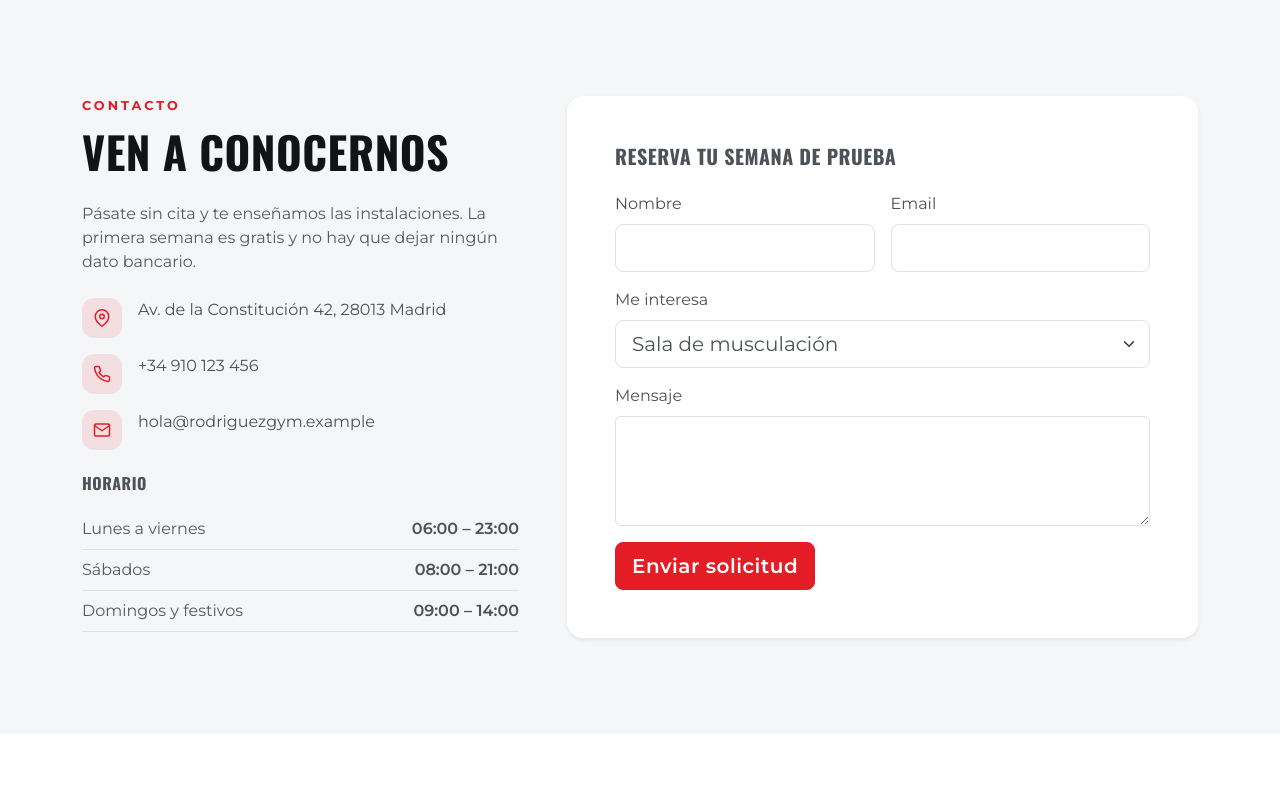
Test: Contact › avisa de que es una demostración al enviar
The image size is (1280, 800).
In the field labelled "Nombre": (745, 248) [615, 224, 874, 272], type "Ana"
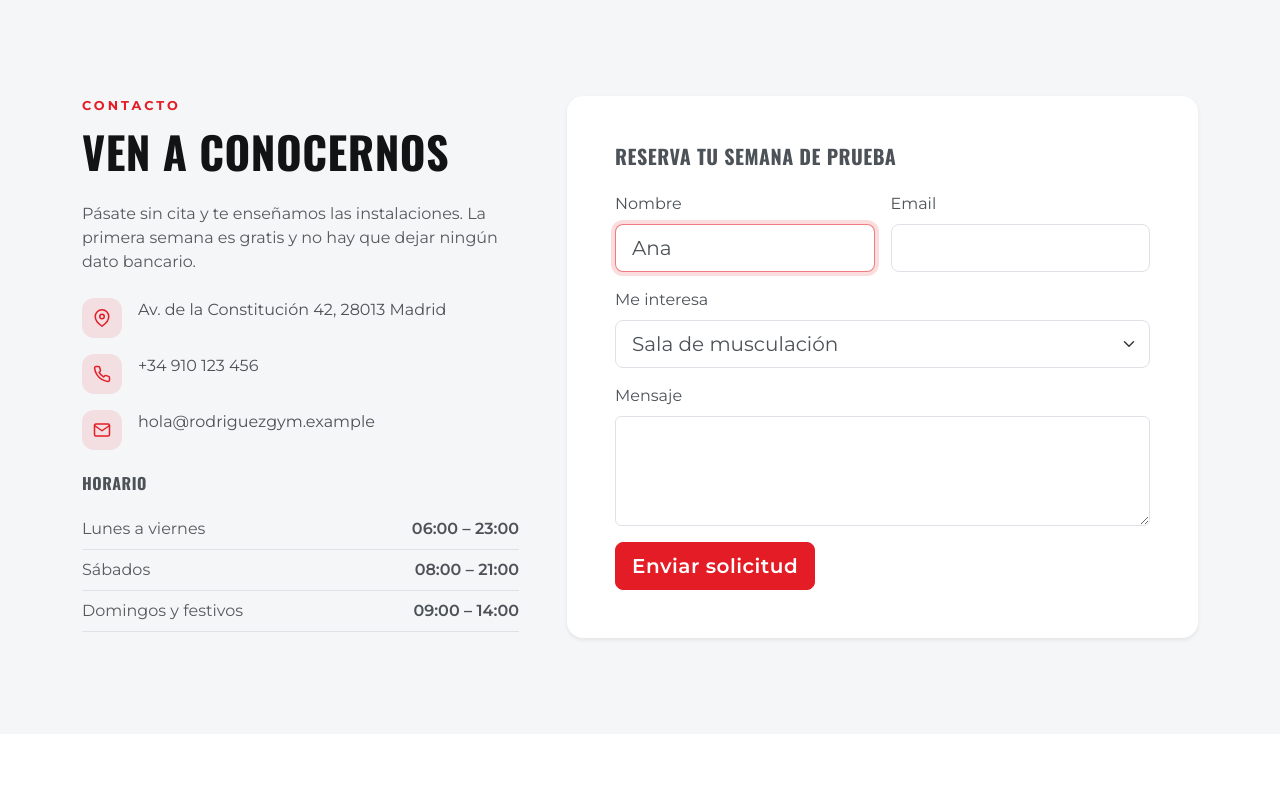
Click the button "Enviar solicitud": (715, 566) [615, 542, 815, 590]
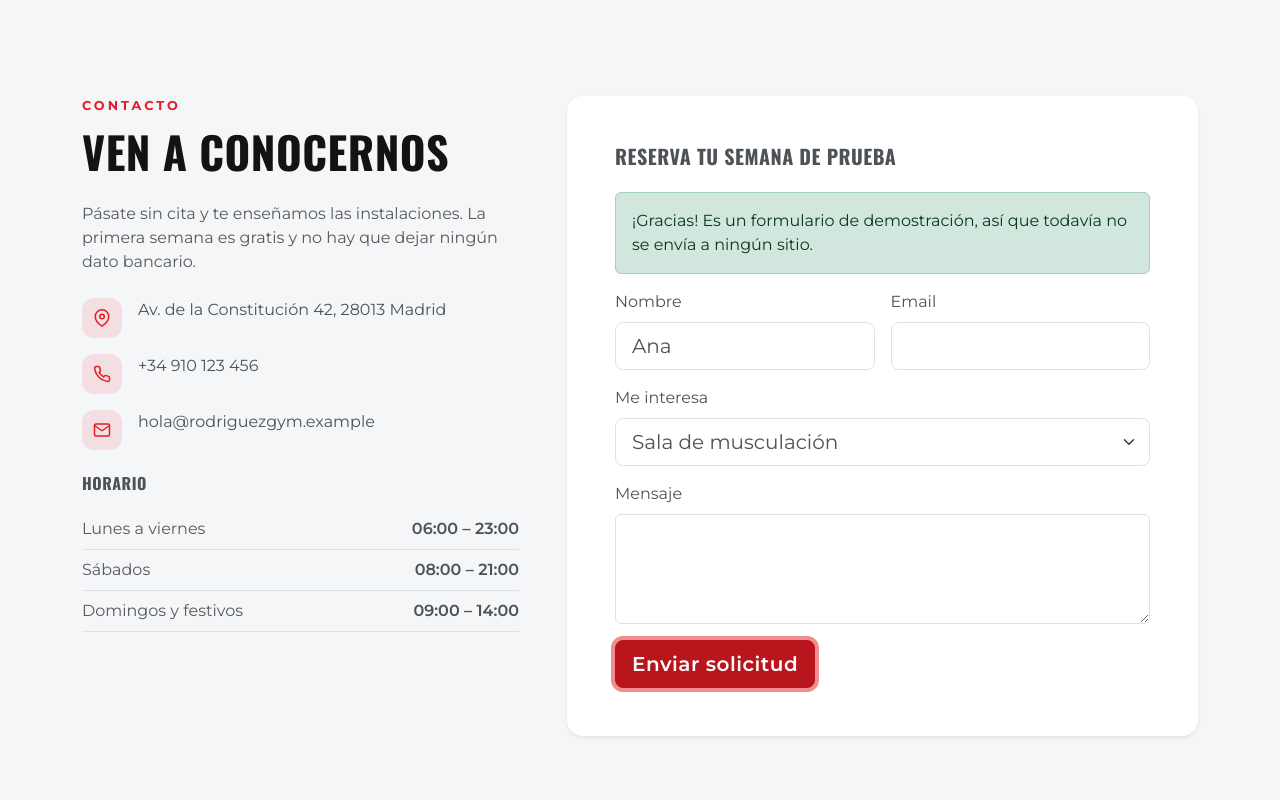
expect the message shows "formulario de demostración": met, box [632, 211, 1127, 254]
